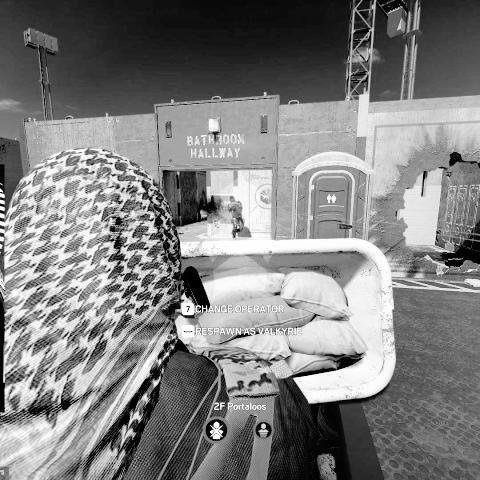Character: (0, 142, 320, 480), (228, 195, 246, 241)
Head: (0, 146, 186, 368), (229, 196, 235, 204)
